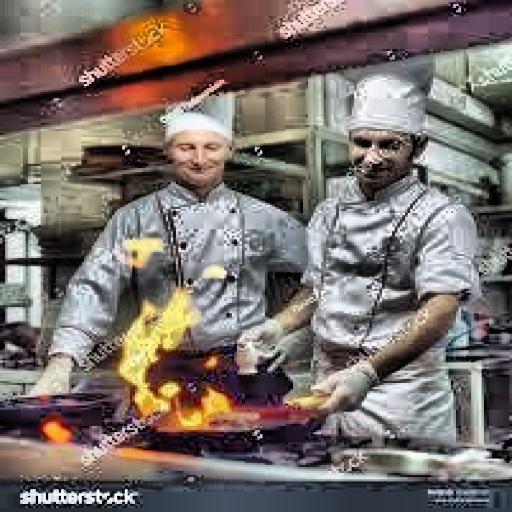fire: (100, 291, 286, 442)
